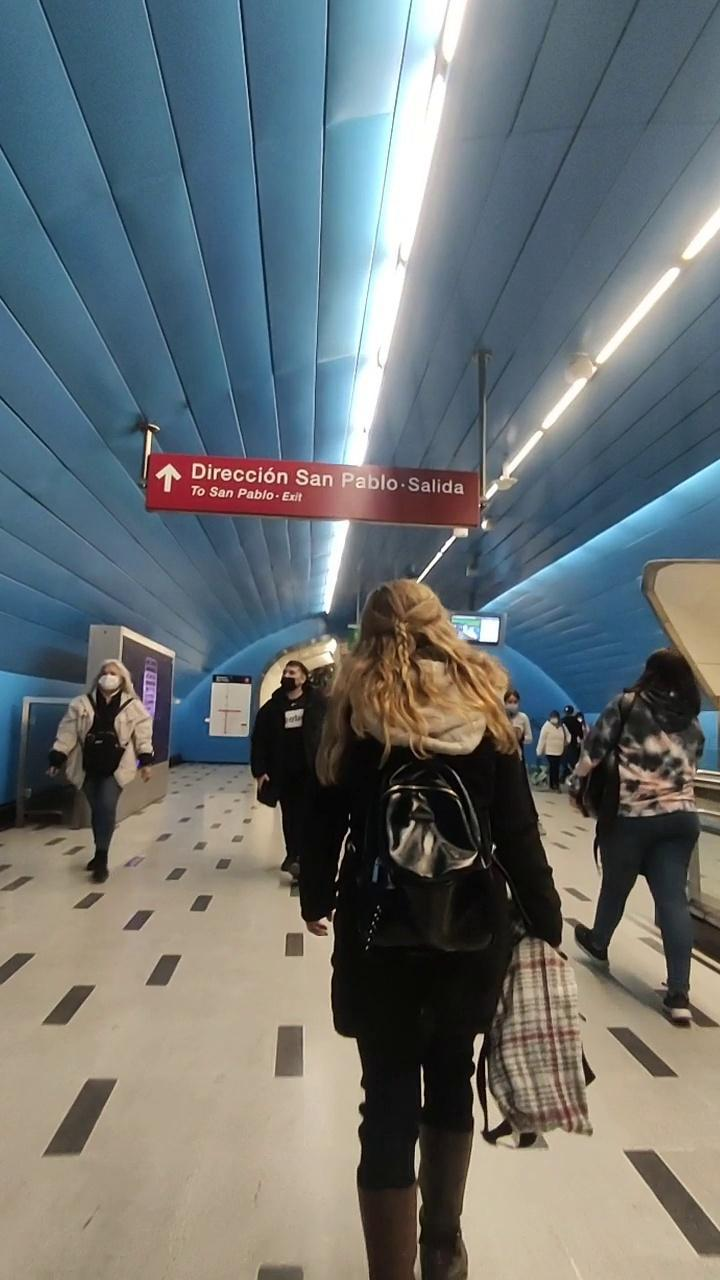up arrow: (156, 458, 185, 504)
